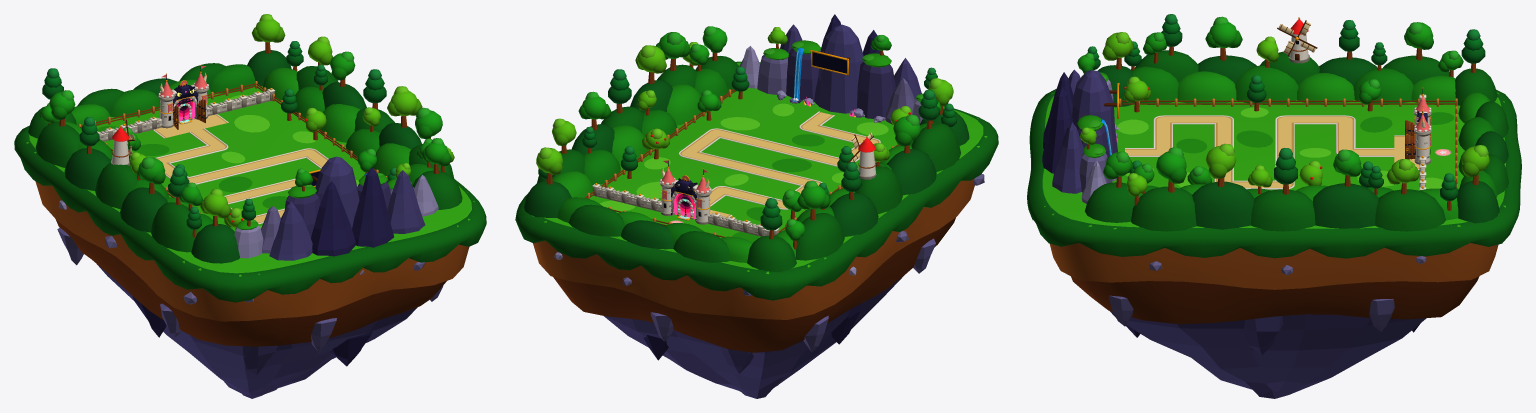
File: earth_base.fbx
3 renders of one model, left to right at view 1: azimuth 30°, elevation 25°; view 2: azimuth 150°, elevation 25°; view 3: azimuth 270°, elevation 25°, orthographic. The views are drawn at different scales.
Visible parts, largest first — view 1: Base_Cliff, Base_Backdrop, Base_Ground, Base_BackdropTrees, Base_Road, Base_Gate, Base_Trees, Base_Dressing; view 2: Base_Cliff, Base_Backdrop, Base_Ground, Base_BackdropTrees, Base_Road, Base_Gate, Base_Trees, Base_Dressing, Base_GateTrim; view 3: Base_Cliff, Base_Backdrop, Base_Ground, Base_BackdropTrees, Base_Road, Base_Trees, Base_Dressing, Base_Gate.
Part boxes in pixels (x1,y1,x2,y2): Base_Cliff: [14, 125, 486, 398]; Base_Backdrop: [28, 50, 462, 263]; Base_Ground: [26, 86, 474, 276]; Base_BackdropTrees: [39, 14, 454, 237]; Base_Road: [153, 114, 328, 224]; Base_Gate: [97, 65, 275, 141]; Base_Trees: [123, 89, 396, 229]; Base_Dressing: [78, 81, 388, 213]; Base_Cliff: [515, 61, 998, 398]; Base_Backdrop: [524, 14, 969, 272]; Base_Ground: [531, 62, 987, 273]; Base_BackdropTrees: [536, 26, 956, 249]; Base_Road: [678, 111, 880, 217]; Base_Gate: [592, 159, 779, 236]; Base_Trees: [621, 66, 911, 219]; Base_Dressing: [584, 89, 898, 237]; Base_GateTrim: [661, 160, 709, 223]; Base_Cliff: [1027, 89, 1521, 398]; Base_Backdrop: [1042, 17, 1508, 231]; Base_Ground: [1042, 92, 1505, 229]; Base_BackdropTrees: [1077, 14, 1489, 210]; Base_Road: [1125, 115, 1419, 189]; Base_Trees: [1124, 75, 1381, 187]; Base_Dressing: [1119, 98, 1457, 188]; Base_Gate: [1405, 87, 1451, 190].
Size of the model in its own units: 188 by 179 by 244.
